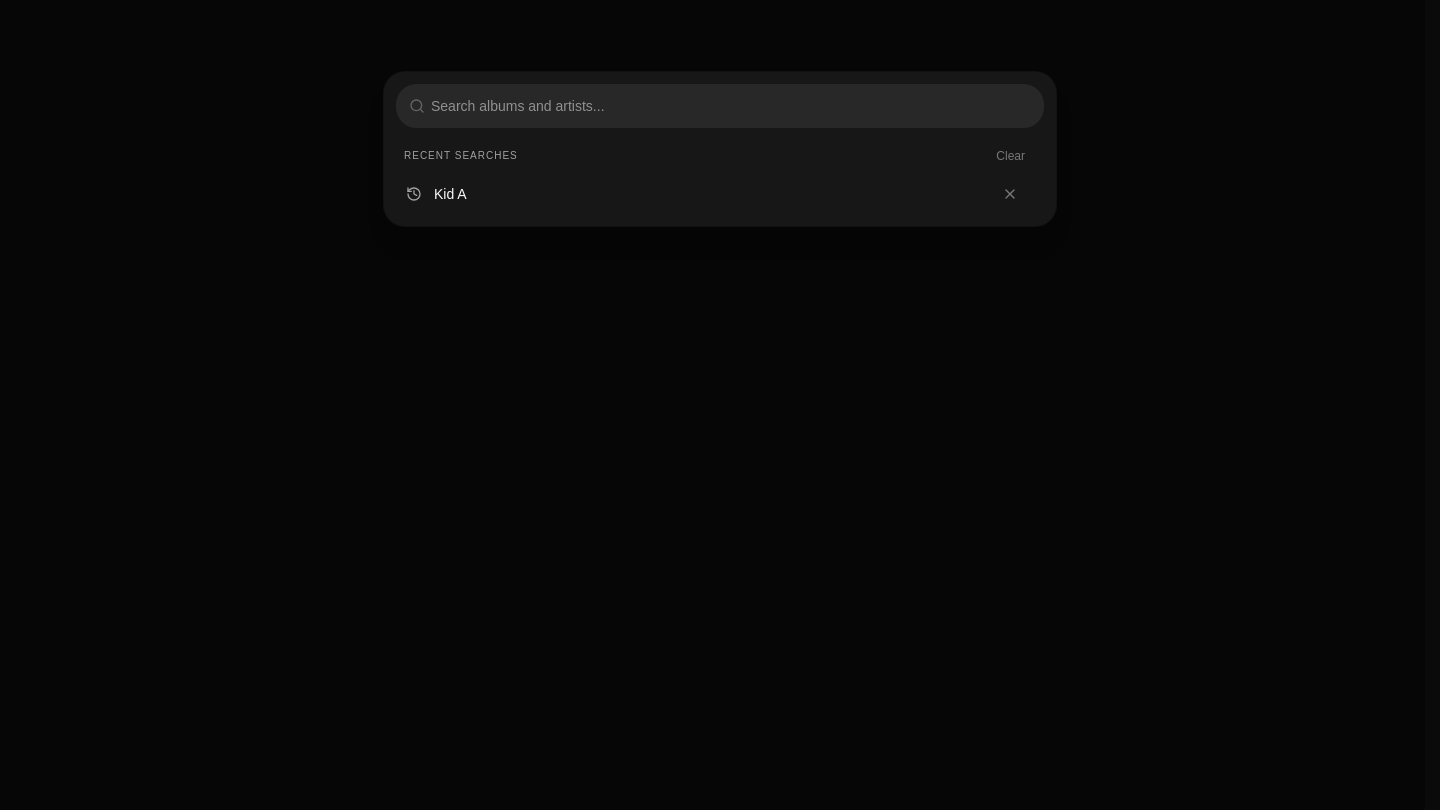
Scenario: GlobalSearch › removes a recent search without filling the input
Step 1. Click the button named "Remove Kid A from recent searches" → [1010, 194], box [998,182,1022,206]
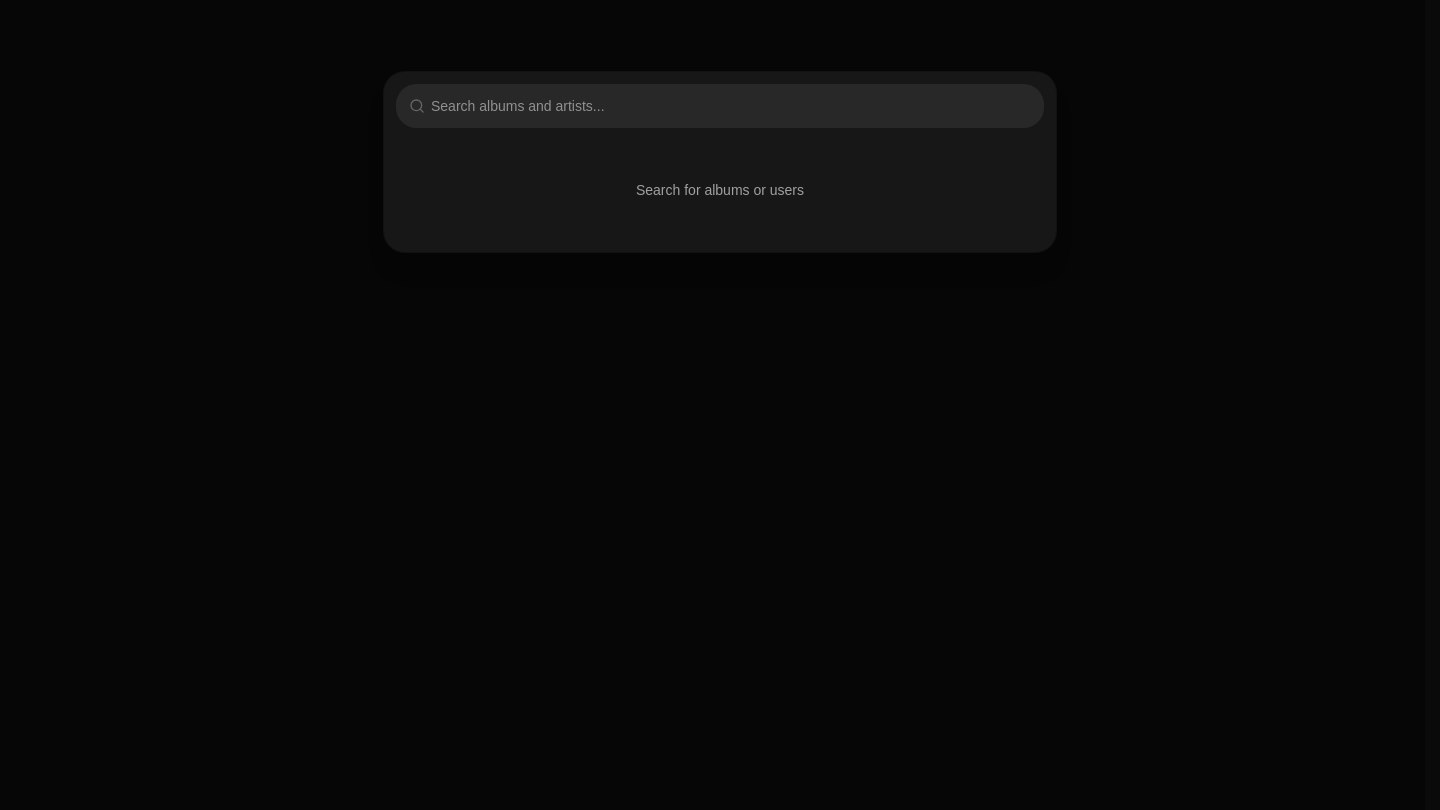
Expected: the dropdown with placeholder "Search albums and artists..." is empty, [425,96,1043,116]
Now the option "Kid A" is gone
Now the text "Search for albums or users" is shown, box [636,182,804,198]
